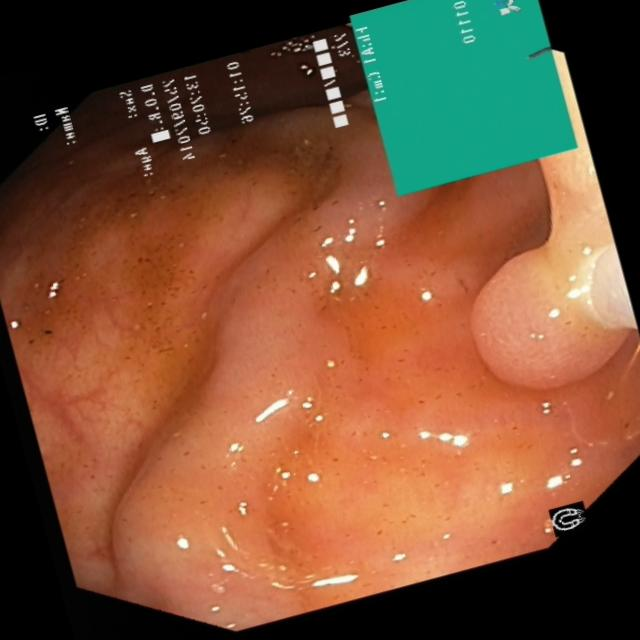Polyps: (452, 236, 640, 391)
